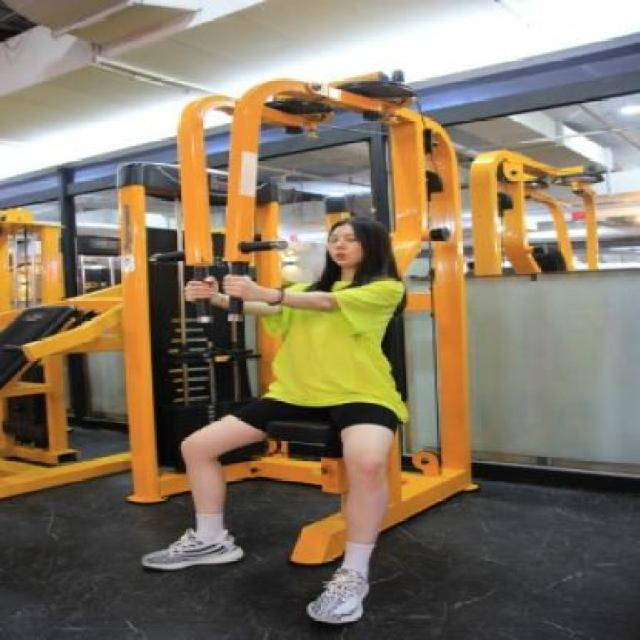chest fly machine: (48, 43, 617, 640)
